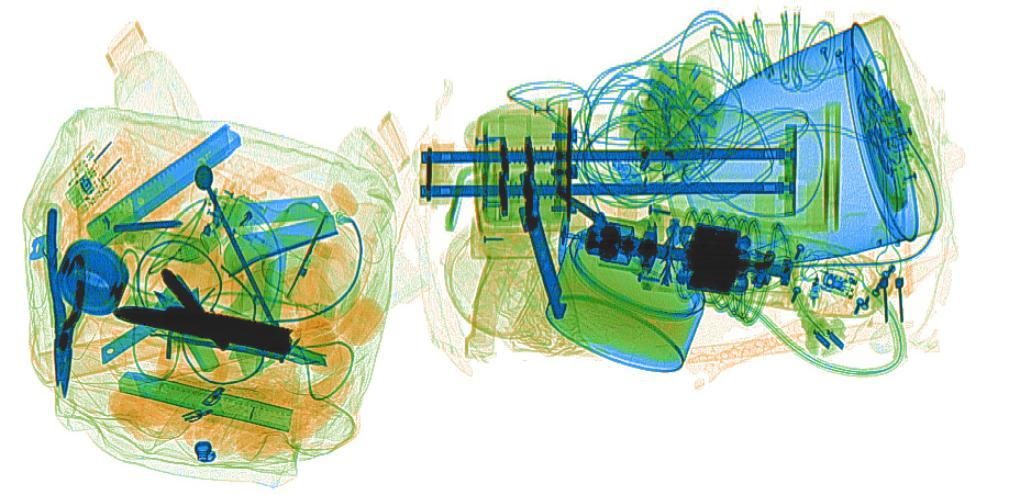knife: (82, 121, 242, 255), (116, 365, 352, 441), (99, 285, 198, 365), (207, 194, 333, 229)
lighter: (197, 164, 287, 255)
